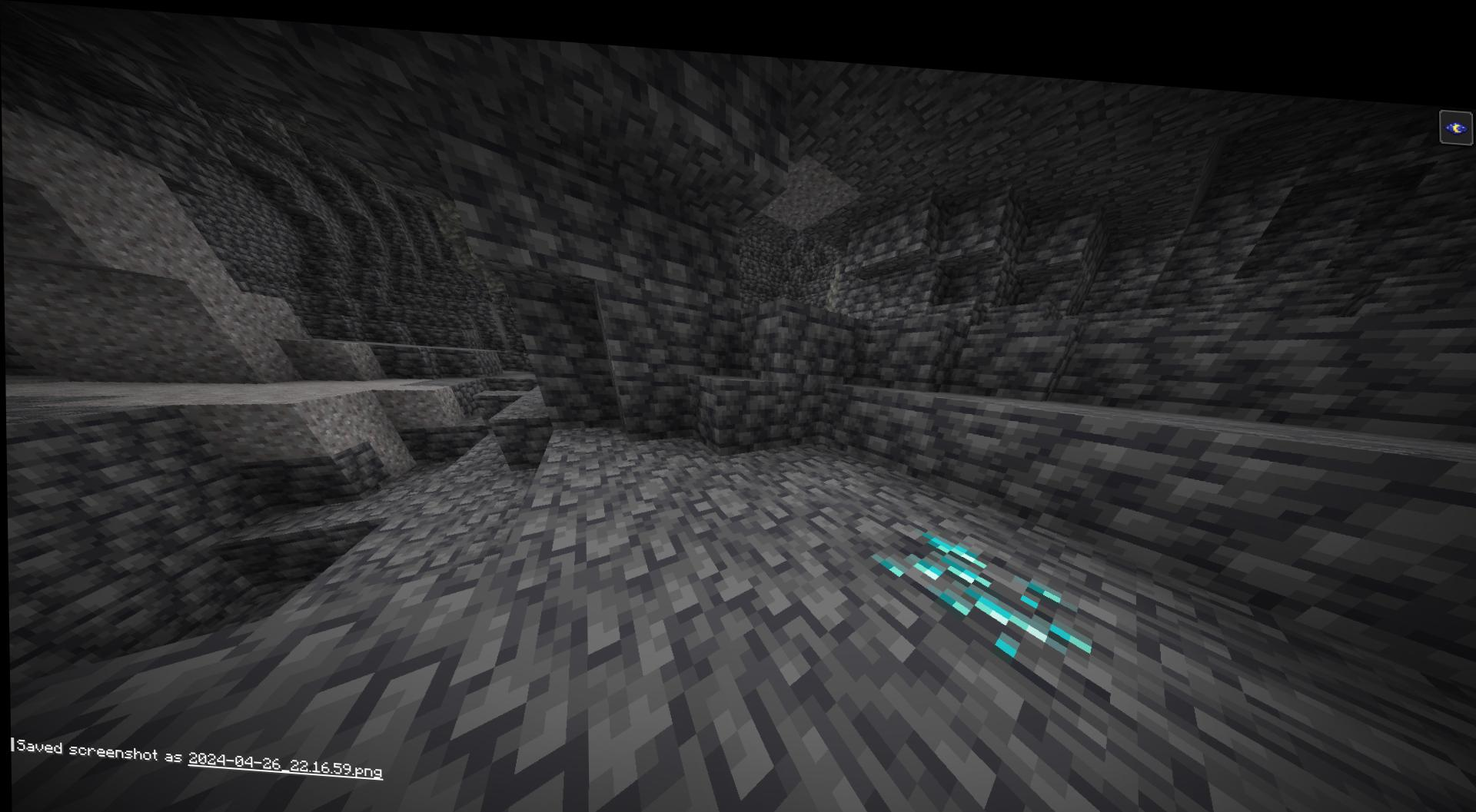diamond ore: (869, 506, 1111, 661)
